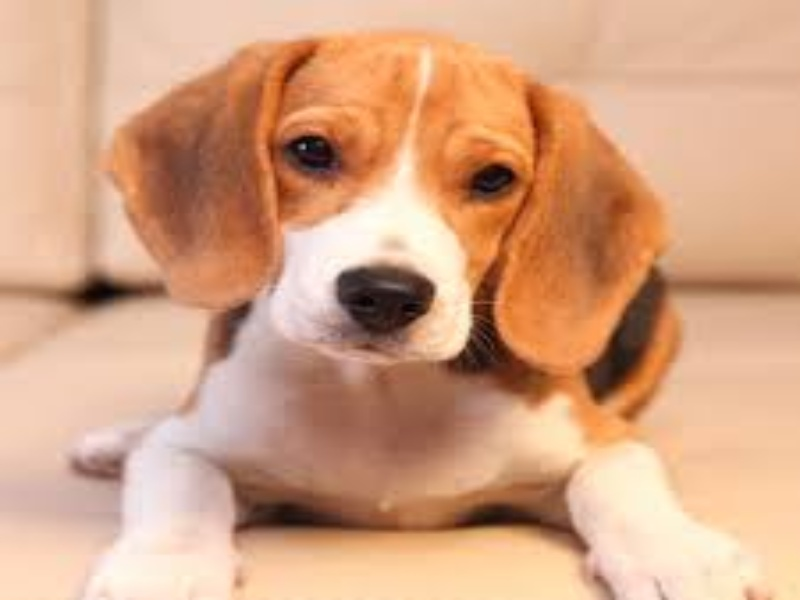dog: (75, 30, 763, 593)
